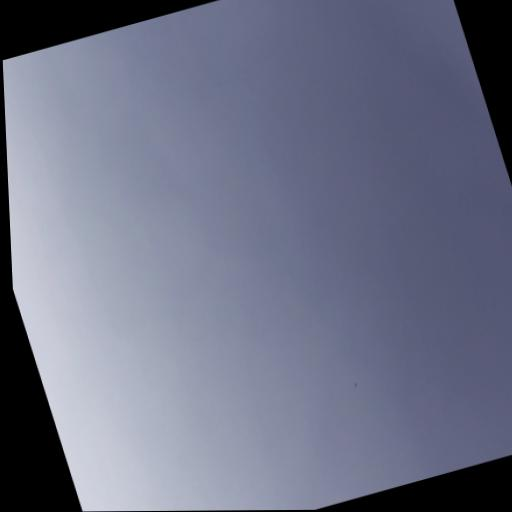drones: (353, 381, 358, 387)
